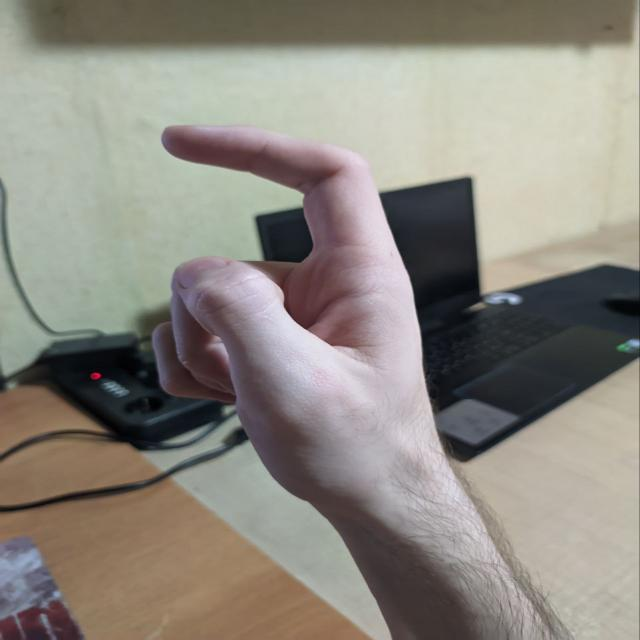kh: (120, 104, 481, 504)
